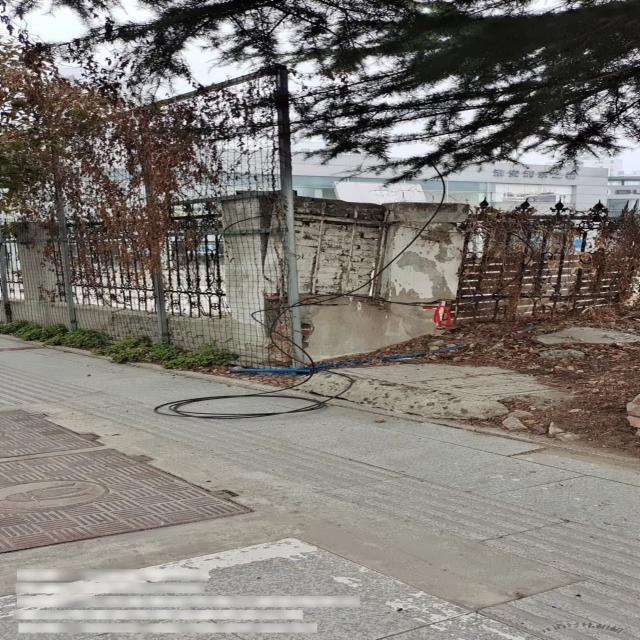Good: (12, 536, 540, 640), (0, 394, 259, 566)
